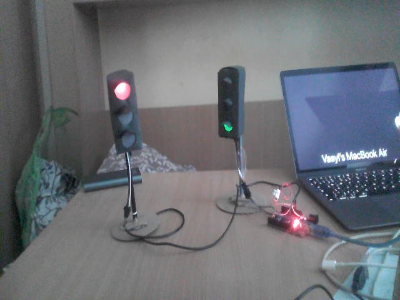trafficlight_green: (217, 69, 239, 138)
trafficlight_red: (107, 75, 142, 152)
